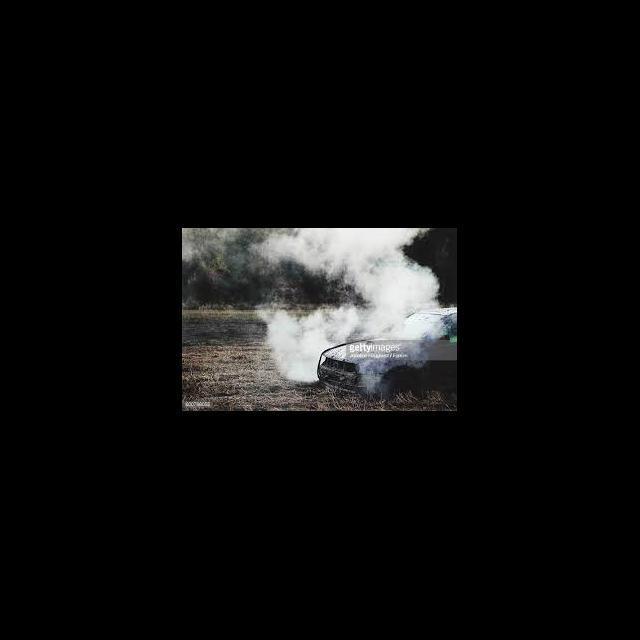Smoke: (256, 229, 442, 380)
